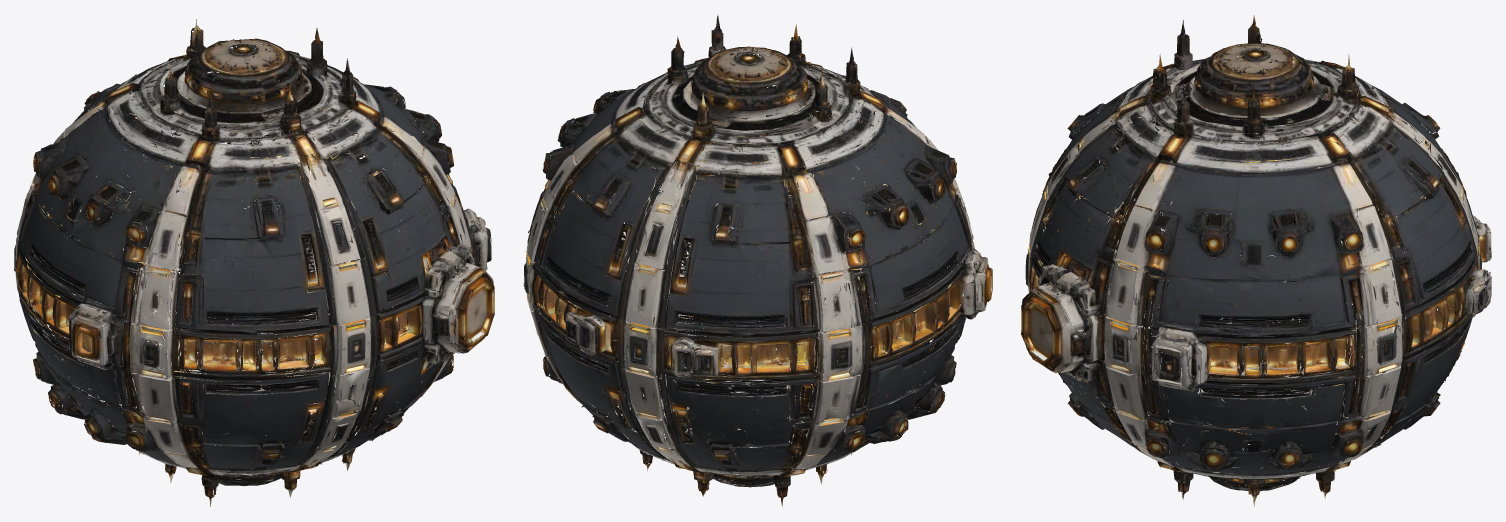
Rendered from orbital-lab-lod2.glb.
3 views of the same model, side by side, from view 1: azimuth 30°, elevation 25°; view 2: azimuth 150°, elevation 25°; view 3: azimuth 270°, elevation 25° (orthographic).
Parts seen in each view (by area): view 1: node_0; view 2: node_0; view 3: node_0.
Boxes of the visible parts, x1,y1,x2,y2 form: node_0: [14, 19, 494, 506]; node_0: [523, 15, 992, 507]; node_0: [1021, 15, 1491, 506].
Bounding box in the file's own units: 1.08 × 1.07 × 1.06.
Materials: 1 (1 with a texture image).
